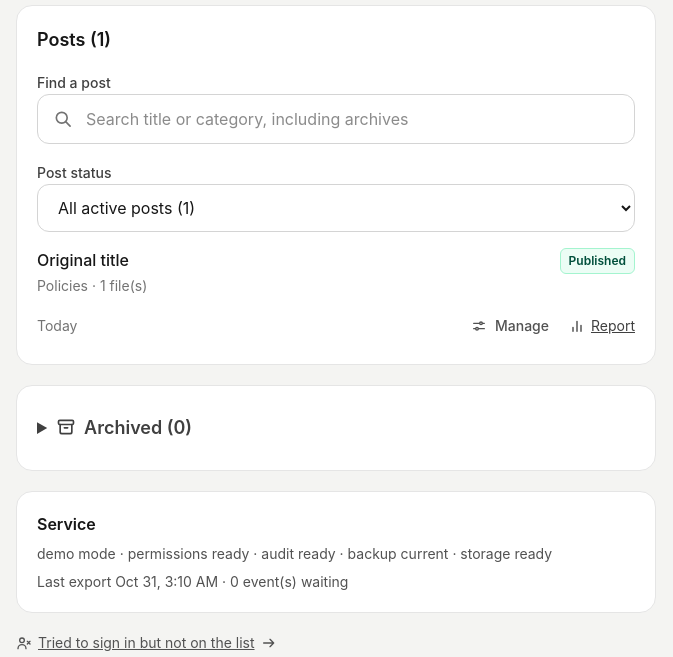
Test case: admin renames a published title and refreshes the reading room
(page scrolled)
Click the button "Manage" at coordinates (510, 326), box x1=467 y1=308 x2=553 y2=344
(page scrolled)
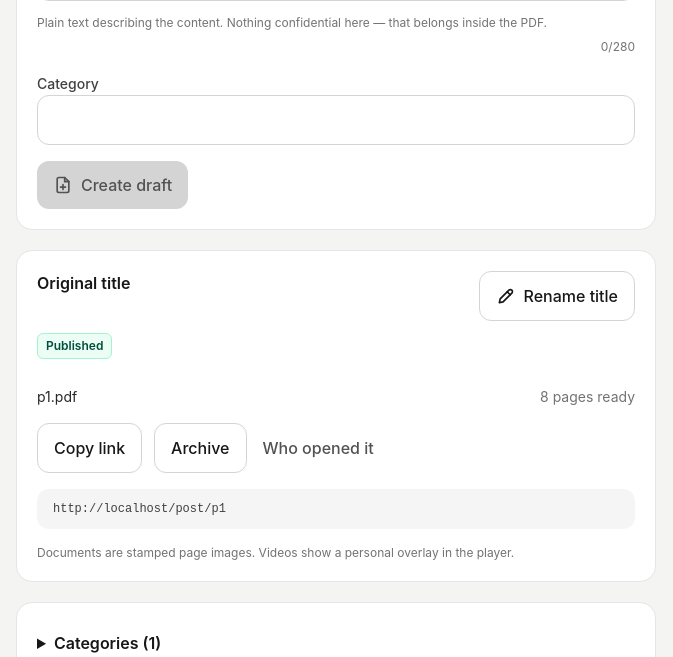
Click the button "Rename title" at coordinates (557, 296), box x1=478 y1=271 x2=635 y2=321
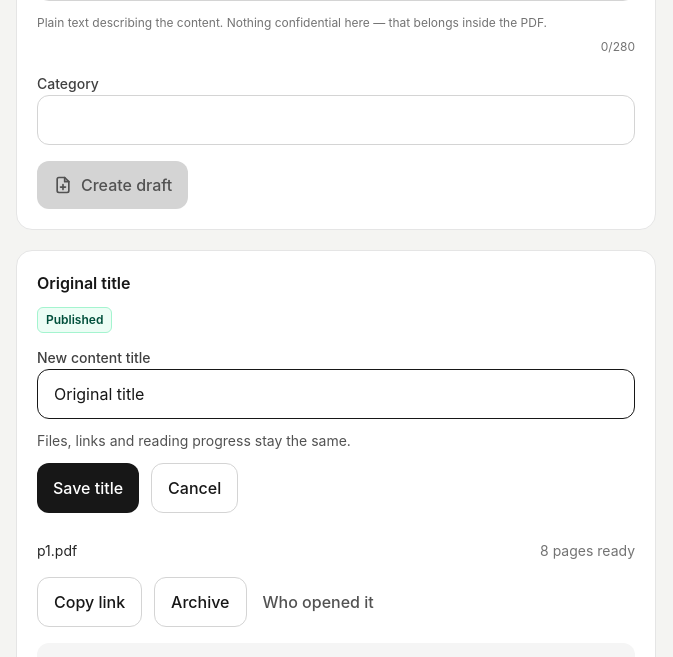
Replace the text in the field labelled "New content title" with "  Better title  " at coordinates (336, 394), box x1=37 y1=369 x2=635 y2=419
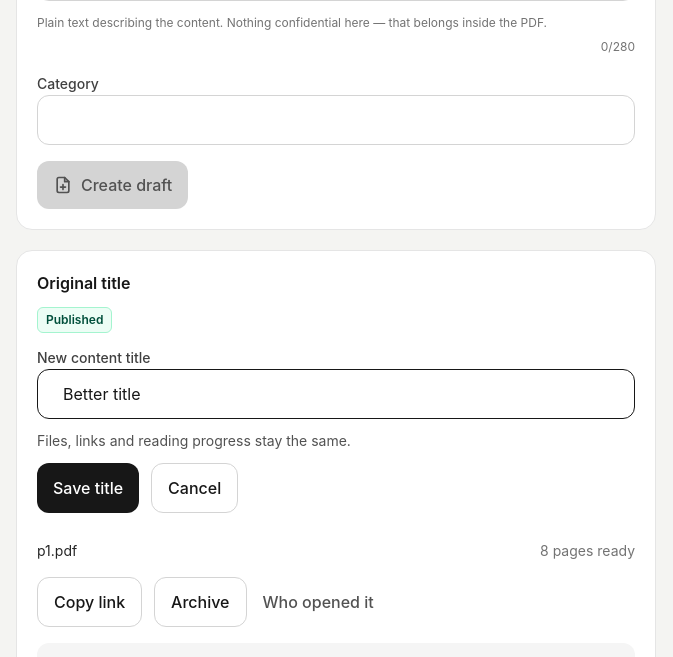
Click the button "Save title" at coordinates (88, 488), box x1=37 y1=463 x2=139 y2=513
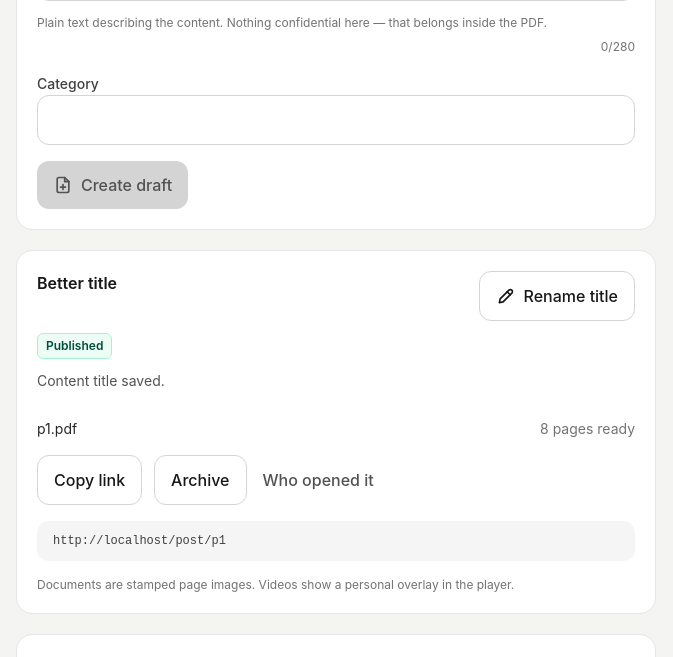
Check: the heading "Better title" is shown, box x1=37 y1=271 x2=117 y2=295
